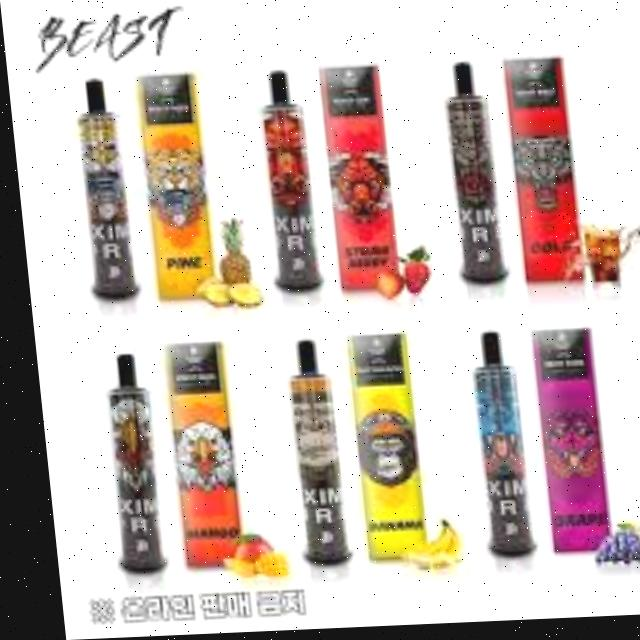vape: (437, 64, 503, 290), (460, 334, 524, 564), (253, 73, 319, 294), (276, 342, 338, 567), (94, 353, 153, 575), (73, 80, 131, 302)
